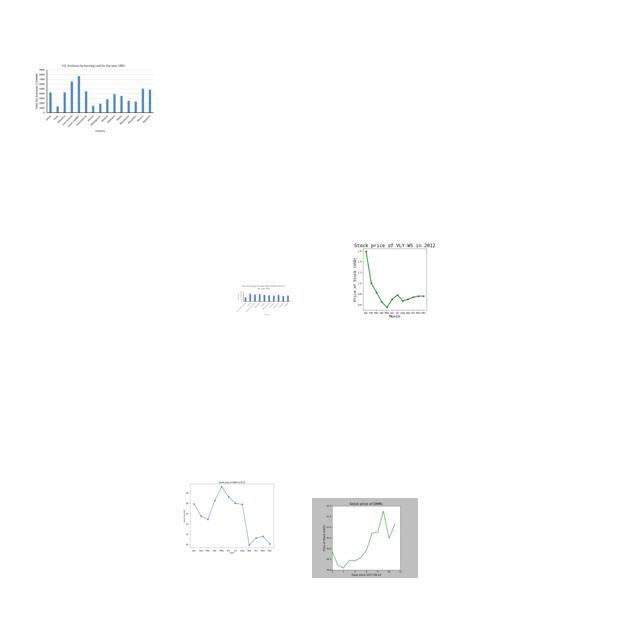Graph: (170, 474, 291, 557), (340, 239, 447, 319), (312, 498, 418, 578), (34, 63, 154, 133), (236, 284, 291, 316)
